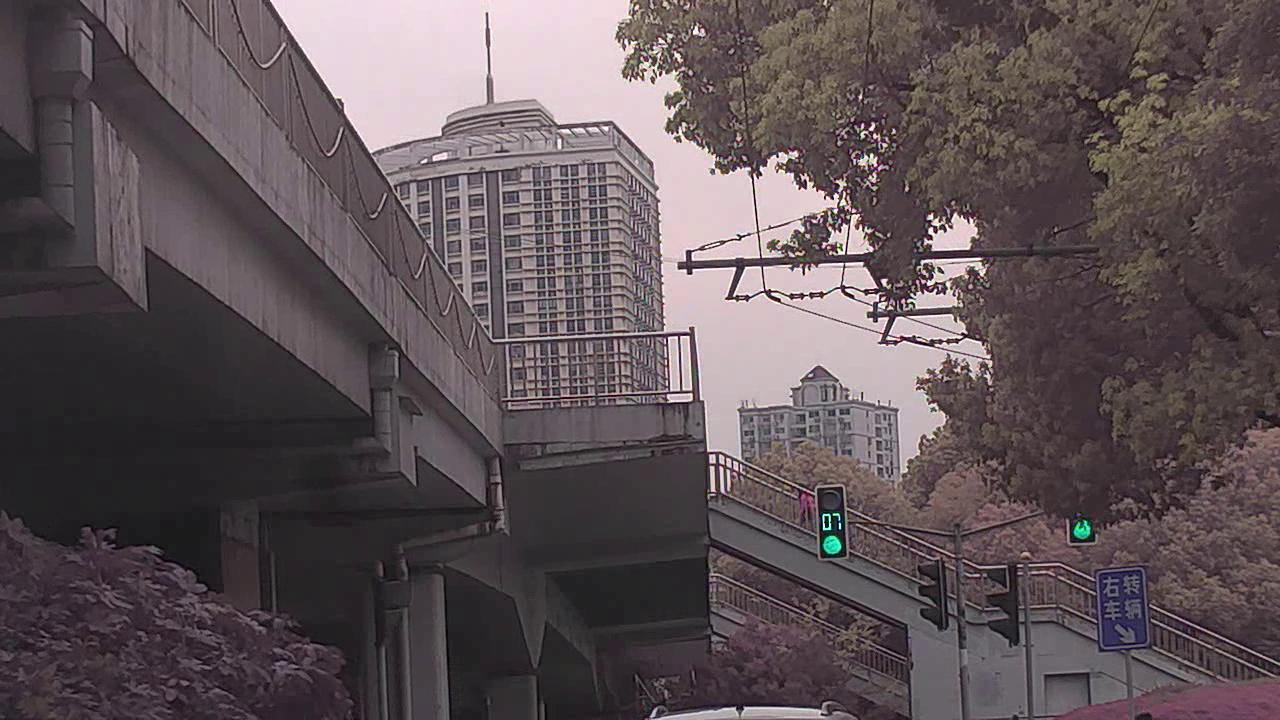traffic_light: (816, 488, 846, 559)
